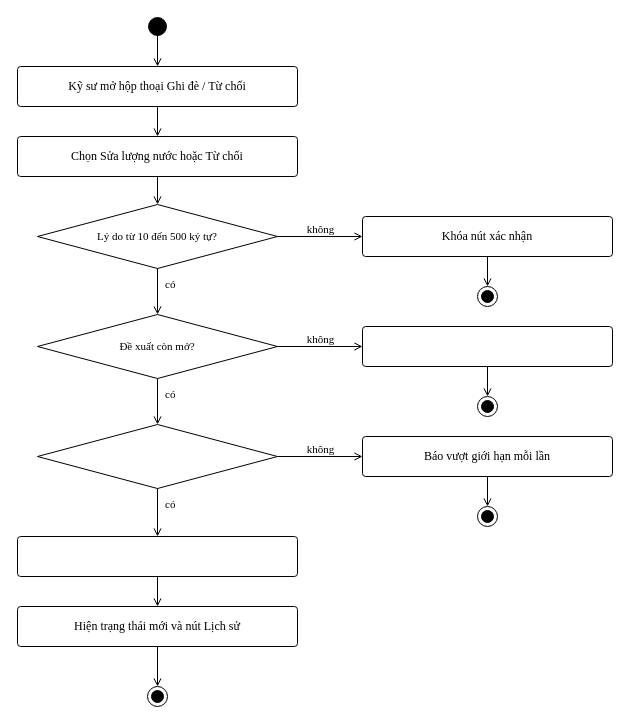
This 630x724 diagram has some shape labels left out. The centre of each missing label's shape, as x and y in pixels:
Báo đề xuất đã đóng: (487,346)
Cập nhật đề xuất, lưu lịch sử ghi đè: (157,556)
Lượng mới không vượt tối đa?: (157,456)
